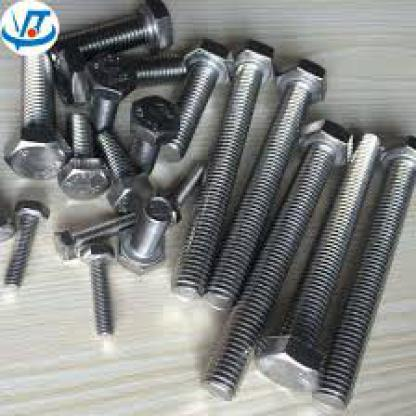METAL: (197, 117, 353, 403), (254, 130, 381, 409), (206, 58, 327, 308), (169, 35, 279, 296), (312, 134, 414, 405), (0, 34, 71, 176), (48, 43, 188, 102), (171, 35, 223, 158), (54, 0, 171, 52), (82, 46, 134, 134), (59, 104, 108, 195), (95, 126, 150, 206), (117, 193, 167, 277), (128, 93, 177, 178), (80, 238, 119, 336), (54, 212, 132, 260), (6, 197, 46, 288), (164, 154, 204, 223)
